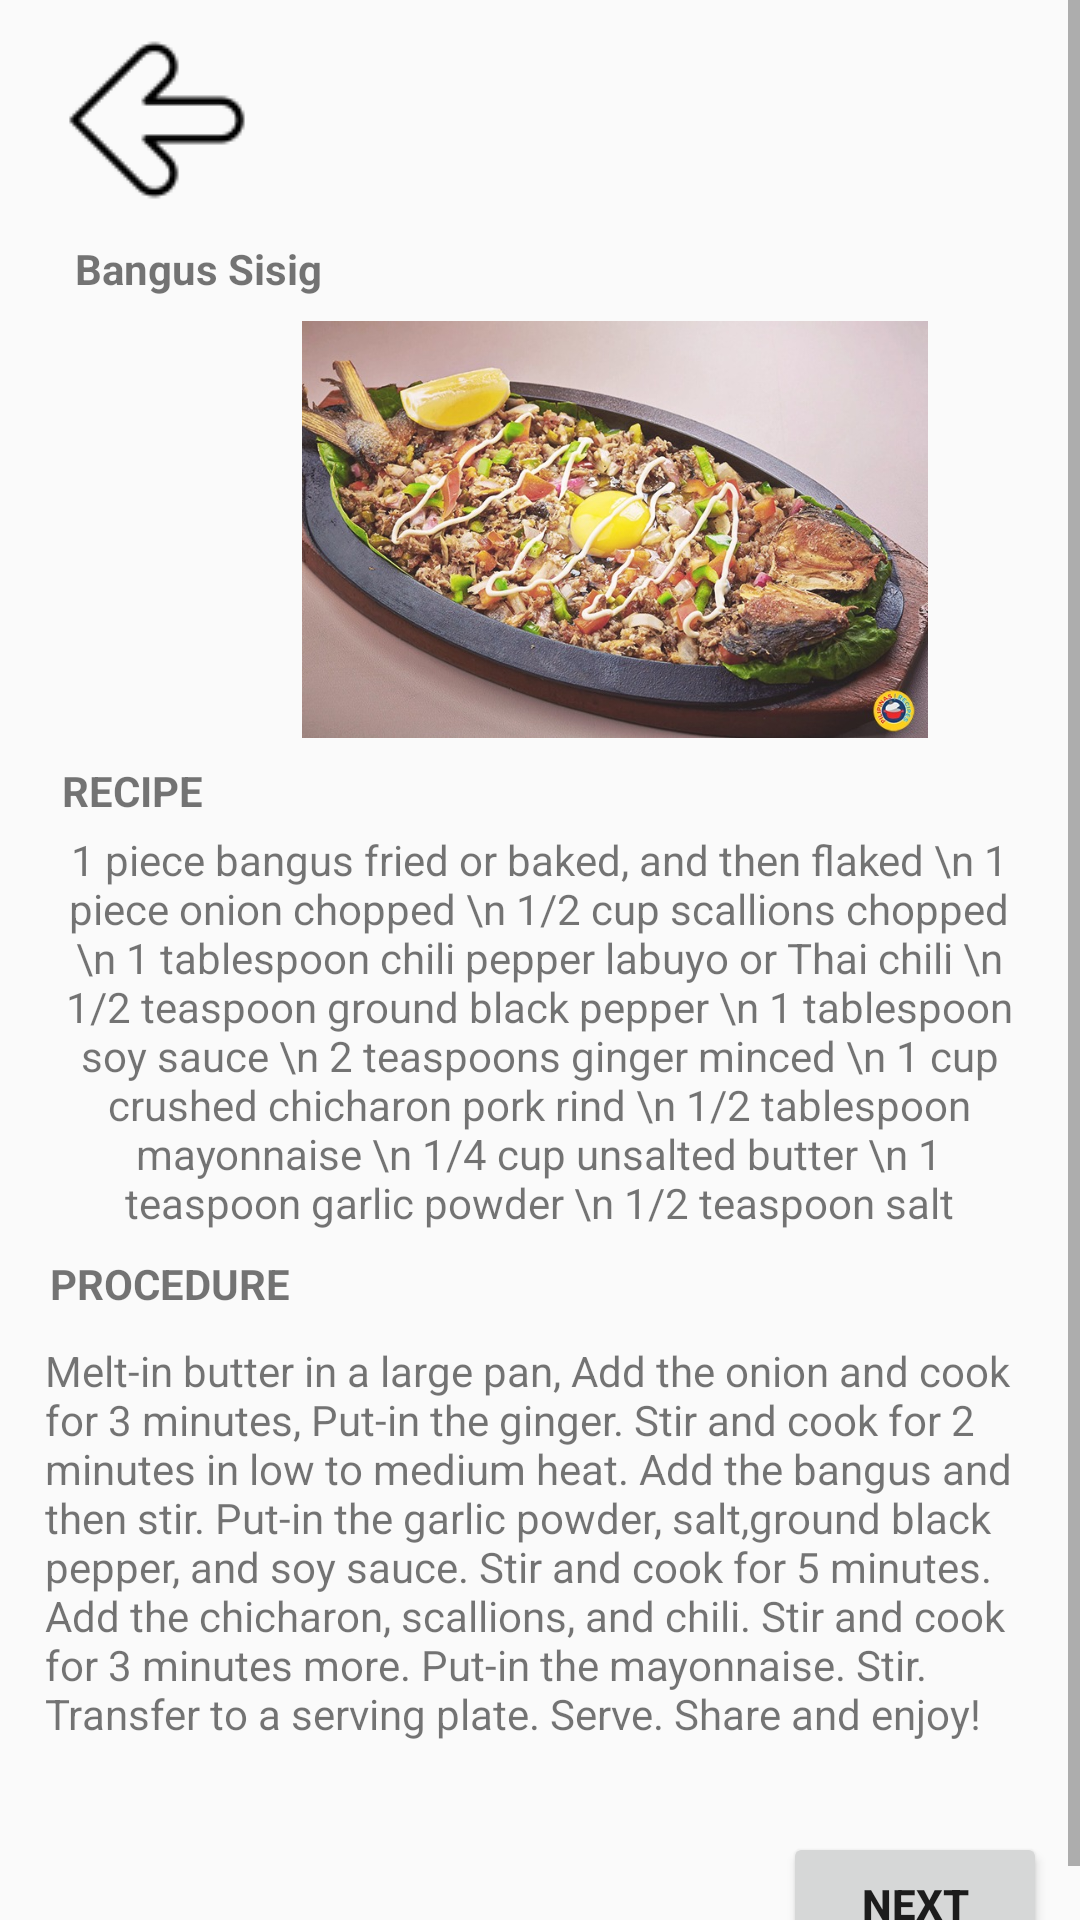

Where icons sit on this 1080×1920 app screen, as {"left": x1, "top": y1, "right": x2, "bottom": y2}:
back: {"left": 69, "top": 41, "right": 245, "bottom": 199}
